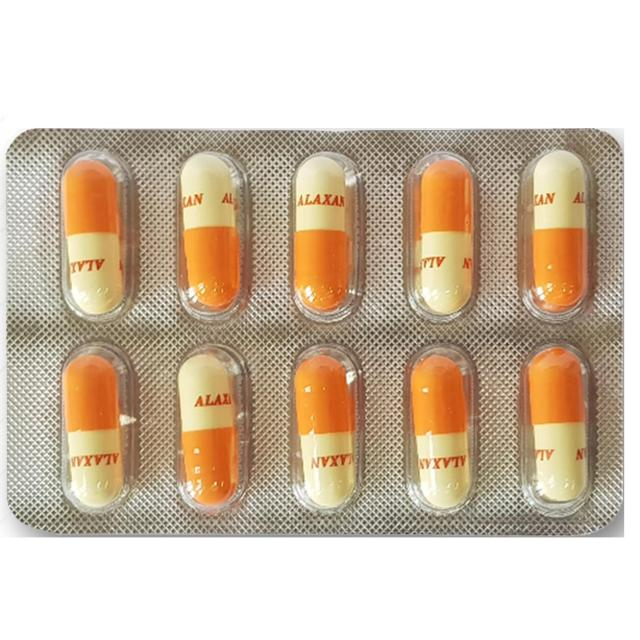blister: (0, 124, 628, 542)
